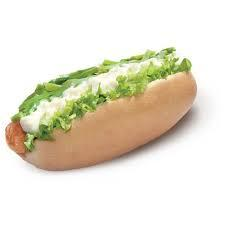Completos: (3, 27, 209, 191)
